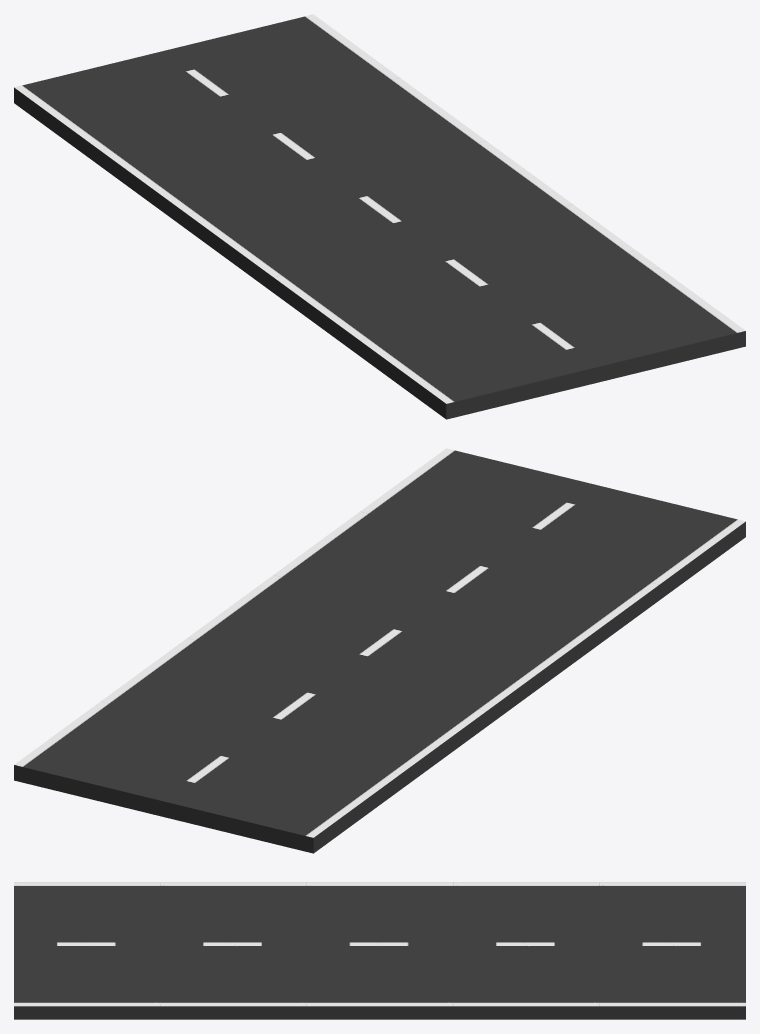
Rendered from StraightRoad.fbx.
3 renders of one model, top to bottom at view 1: azimuth 30°, elevation 25°; view 2: azimuth 150°, elevation 25°; view 3: azimuth 270°, elevation 25°, orthographic. The views are drawn at different scales.
Visible parts, largest first — view 1: StraightRoad; view 2: StraightRoad; view 3: StraightRoad.
Part boxes in pixels (box(x1,y1,x2,y2)): StraightRoad: box(14, 14, 745, 419); StraightRoad: box(14, 448, 745, 853); StraightRoad: box(14, 882, 745, 1019).
Bounding box in the file's own units: 400 × 20 × 1000.
1 material, 1 textured.
